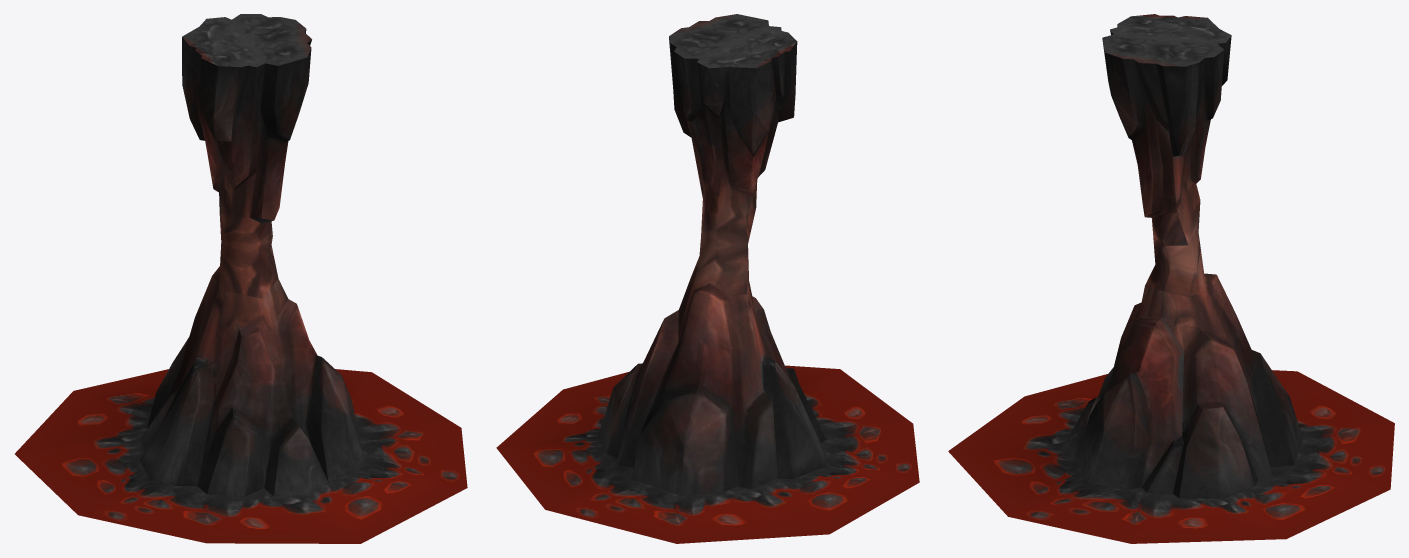
The model's file is lava_column_01.fbx.
The picture shows the model from 3 angles, left to right: view 1: azimuth 30°, elevation 25°; view 2: azimuth 150°, elevation 25°; view 3: azimuth 270°, elevation 25°; orthographic projection. The views are drawn at different scales.
Visible parts, largest first — view 1: lava_column_01-0; view 2: lava_column_01-0; view 3: lava_column_01-0.
Part boxes in pixels (x1=…): lava_column_01-0: x1=15, y1=14, x2=467, y2=543; lava_column_01-0: x1=496, y1=14, x2=919, y2=543; lava_column_01-0: x1=948, y1=14, x2=1394, y2=543.
Size of the model in its own units: 10.28 by 10.97 by 10.8.
